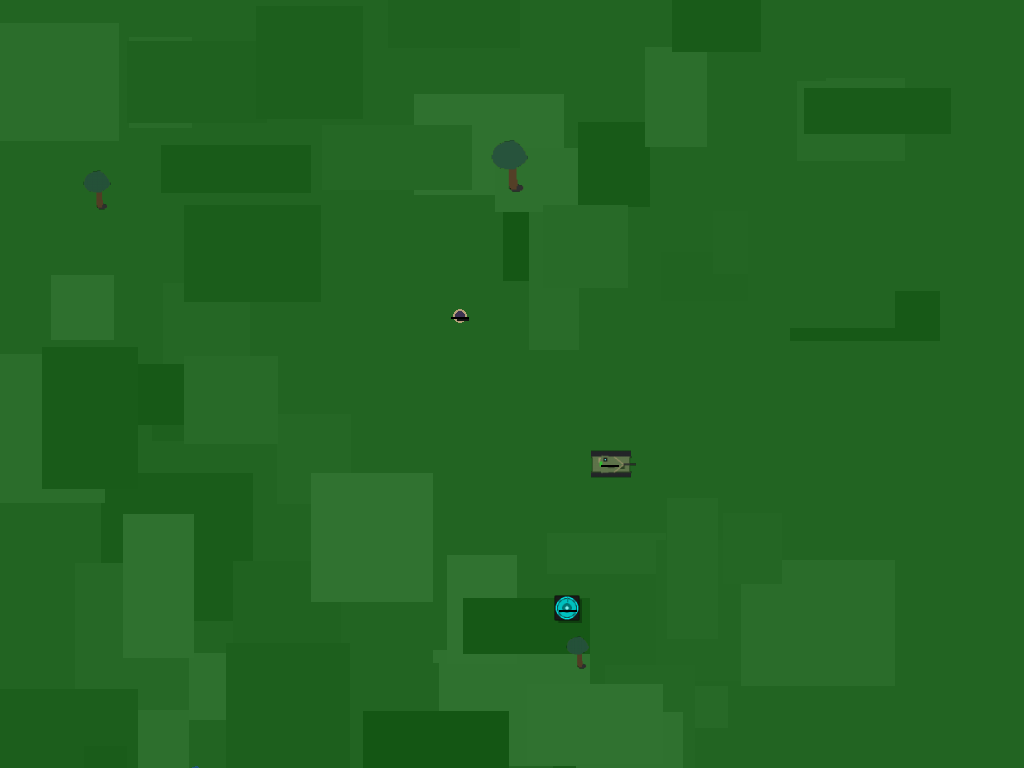LaserTurret: (547, 587, 590, 630)
M1A2_chn: (587, 440, 634, 487)
RocketTrooper: (446, 301, 474, 329)
